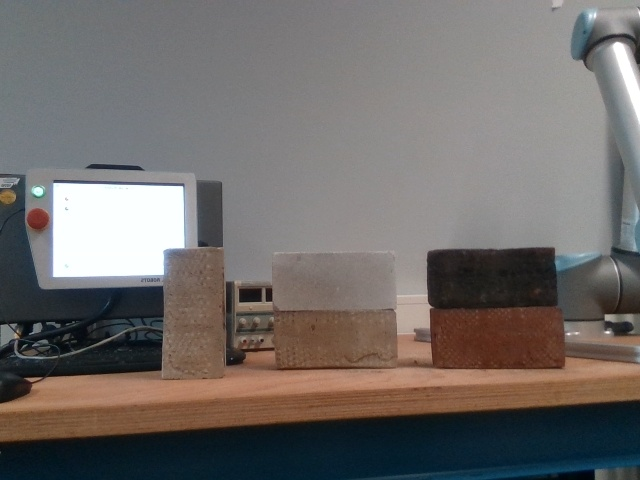brick: (430, 307, 562, 369), (163, 249, 225, 380), (426, 247, 556, 307), (274, 310, 395, 373), (271, 252, 396, 312)
